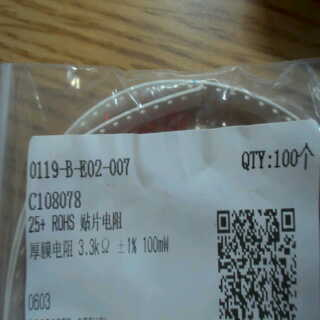3.3kO: (76, 236, 113, 257)
